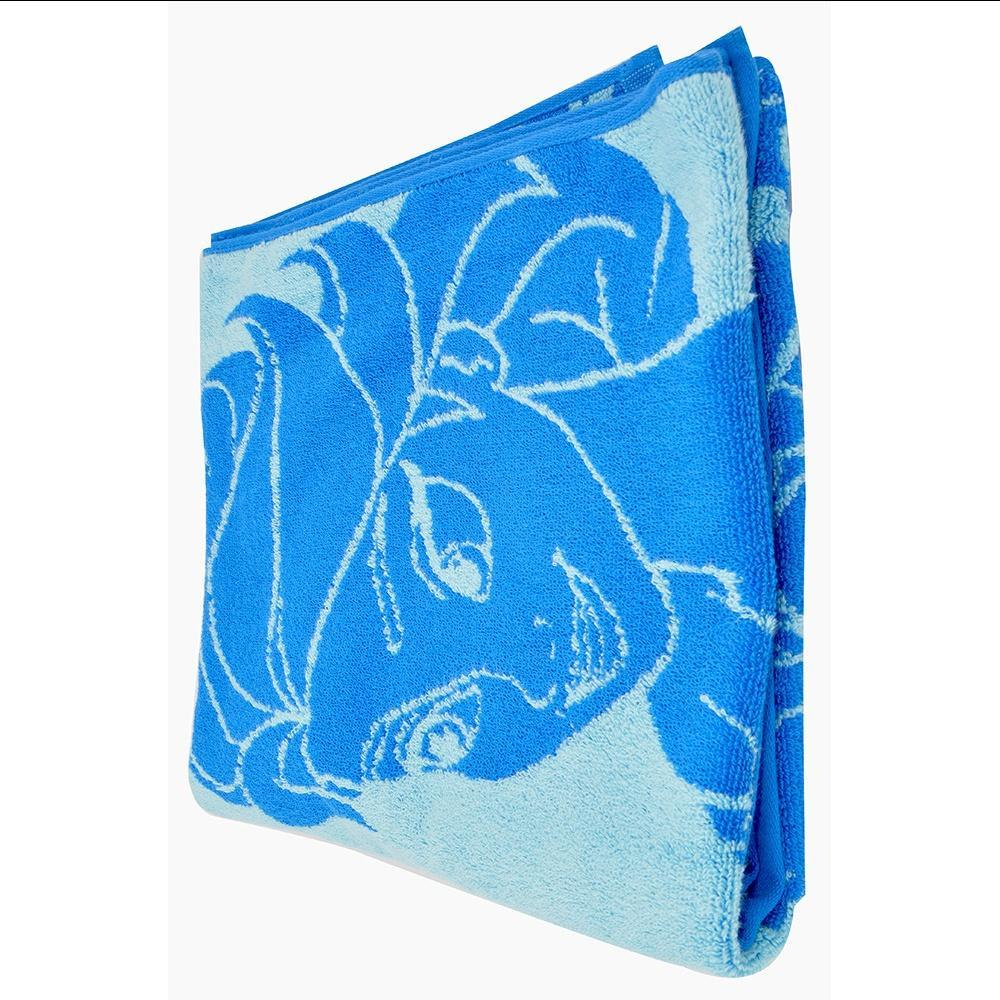towel: (163, 55, 800, 898)
